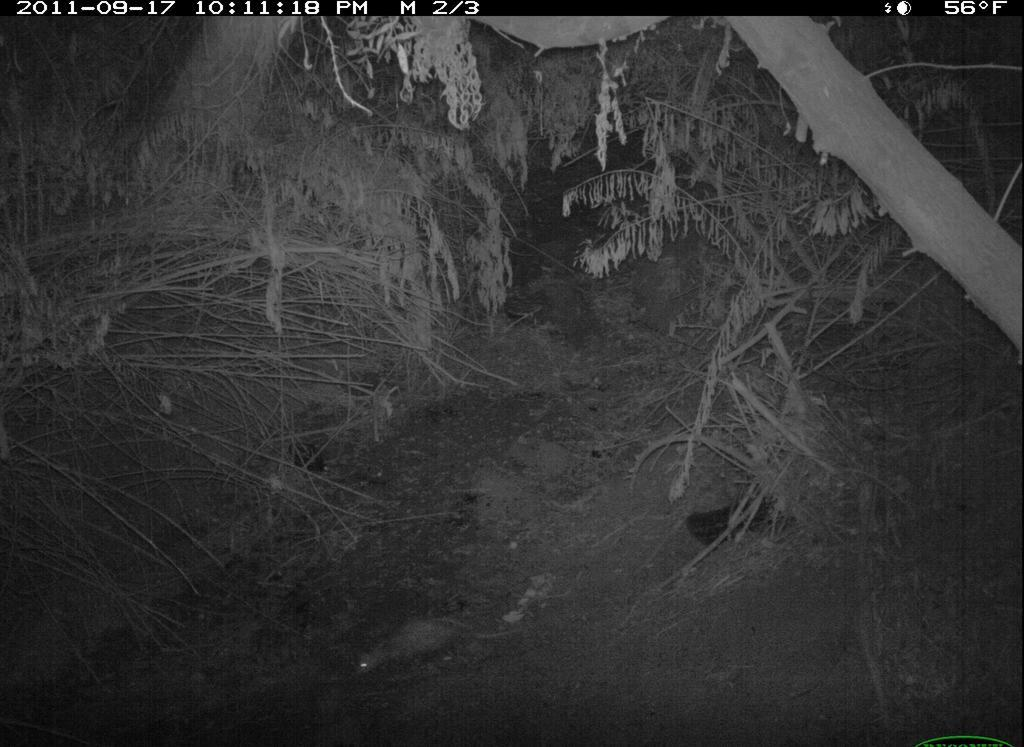opossum: (349, 609, 547, 688)
